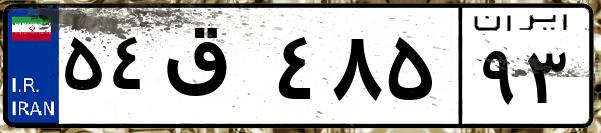3: (525, 38, 570, 115)
4: (270, 28, 330, 110), (110, 28, 158, 98)
5: (385, 28, 445, 110), (57, 26, 110, 100)
8: (330, 28, 385, 110)
9: (475, 38, 525, 113)
ق: (158, 20, 270, 120)
